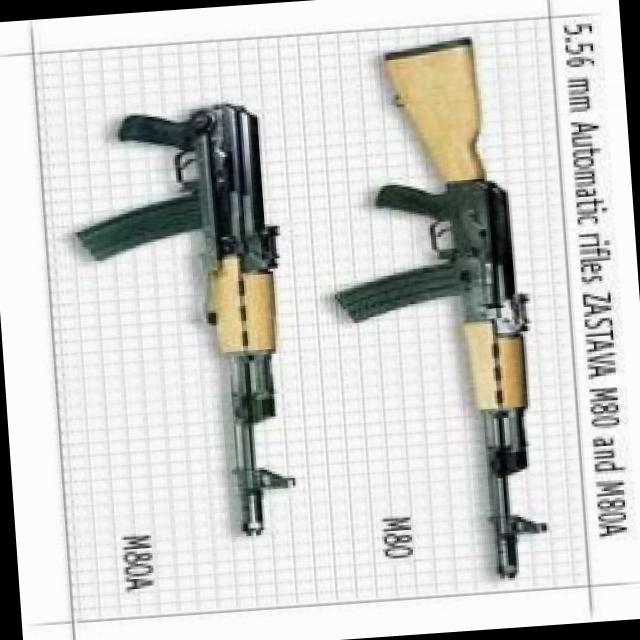long weapon: (68, 69, 336, 578), (342, 18, 578, 594)
